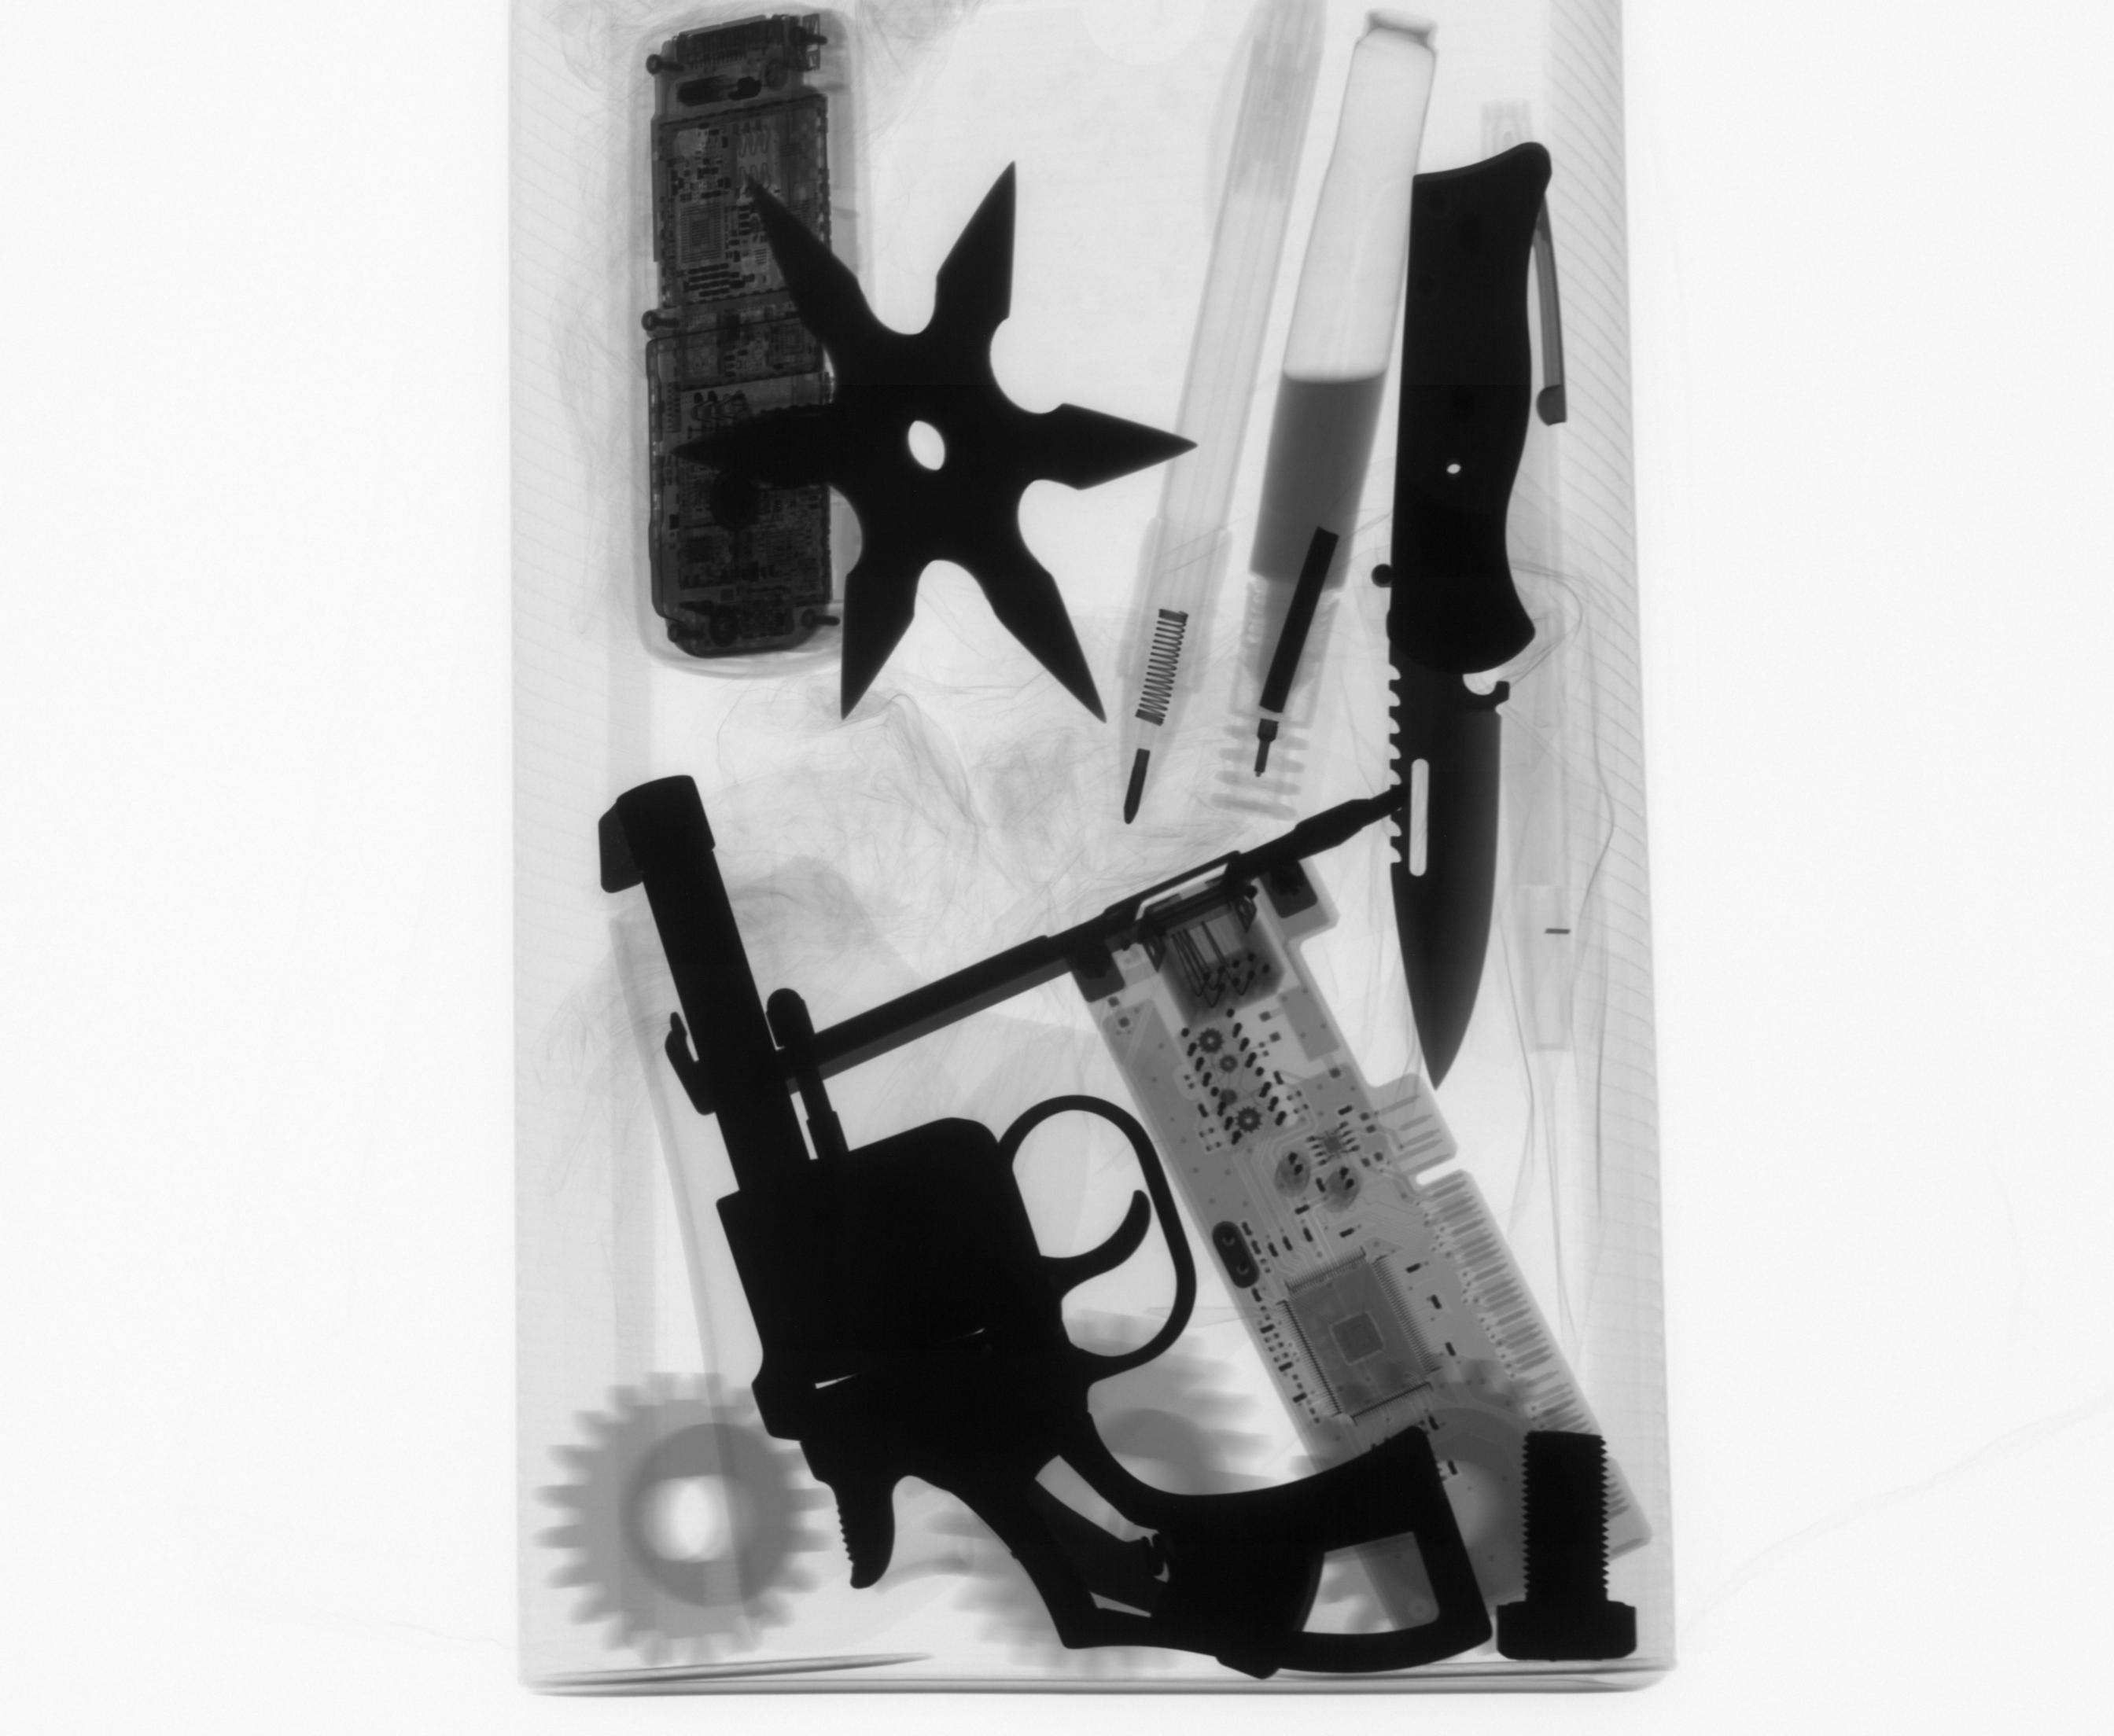Handgun: (588, 767, 1510, 1687)
Knife: (1368, 135, 1559, 1101)
Shuriken: (664, 158, 1206, 734)
